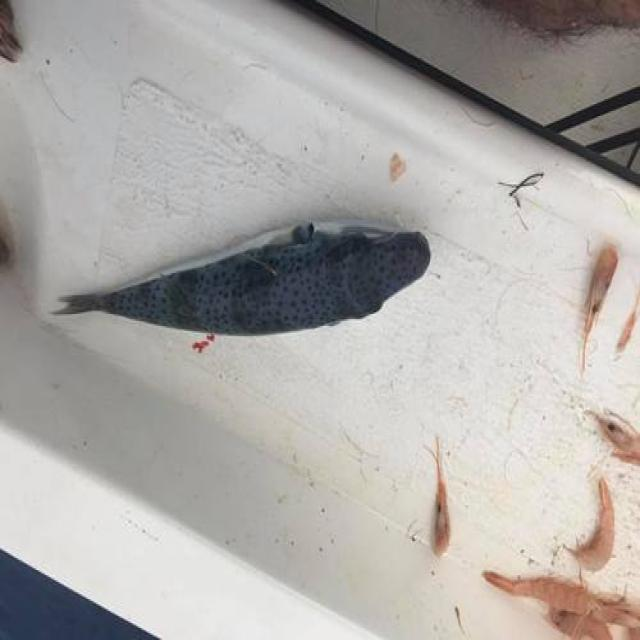Balik: (58, 224, 430, 336)
